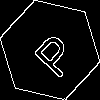P: (25, 25, 80, 81)
